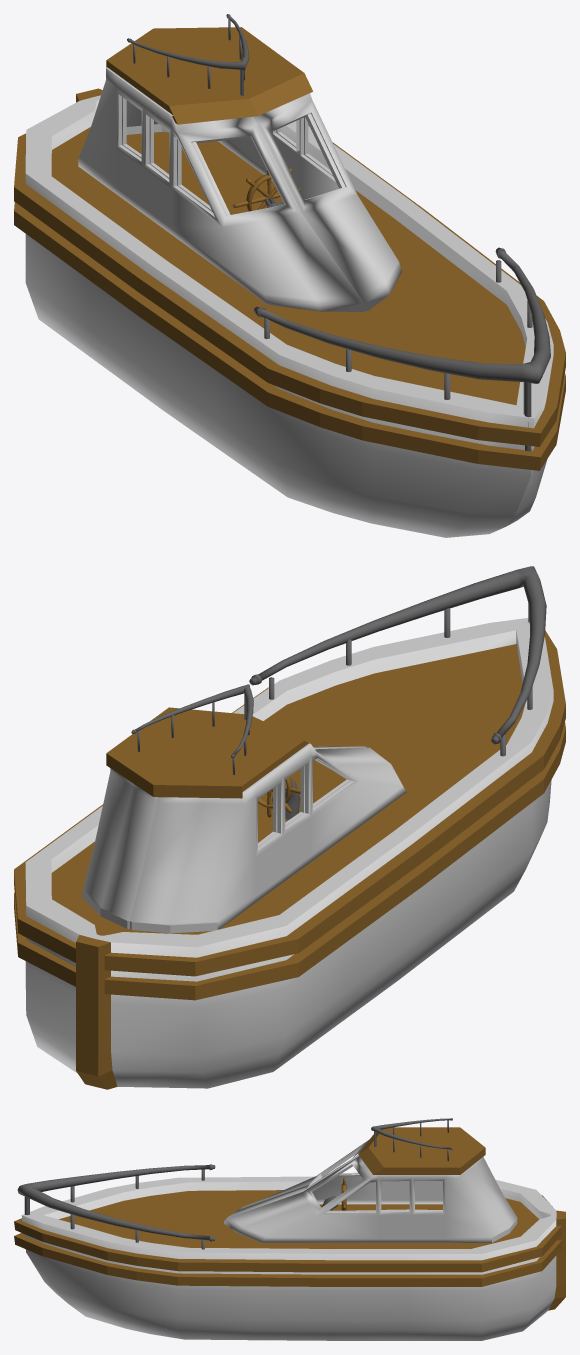
The model's file is boaty.fbx.
3 renders of one model, top to bottom at view 1: azimuth 30°, elevation 25°; view 2: azimuth 150°, elevation 25°; view 3: azimuth 270°, elevation 25°, orthographic. The views are drawn at different scales.
Visible parts, largest first — view 1: BezierCurve; view 2: BezierCurve; view 3: BezierCurve.
Boxes of the visible parts, x1,y1,x2,y2 form: BezierCurve: [14, 14, 565, 537]; BezierCurve: [14, 566, 565, 1089]; BezierCurve: [14, 1118, 565, 1340].
Size of the model in its own units: 263 by 272 by 724.
